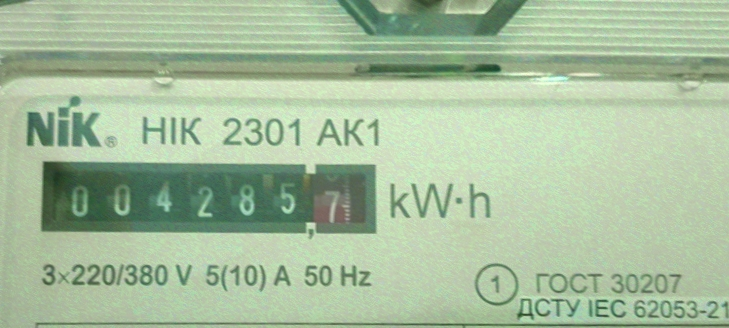0: (110, 180, 133, 218), (68, 182, 90, 218)
2: (194, 183, 214, 219)
4: (154, 178, 173, 213)
5: (275, 179, 297, 215)
7: (320, 187, 341, 224)
8: (234, 181, 257, 218)
screen: (25, 144, 392, 253)
